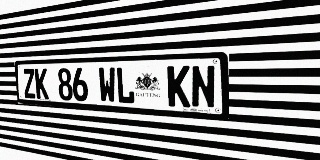6: (72, 68, 88, 102)
8: (57, 68, 73, 101)
K: (167, 66, 190, 107), (34, 68, 49, 99)
L: (116, 67, 135, 104)
N: (191, 65, 216, 109)
W: (98, 67, 116, 103)
Z: (22, 69, 36, 99)
